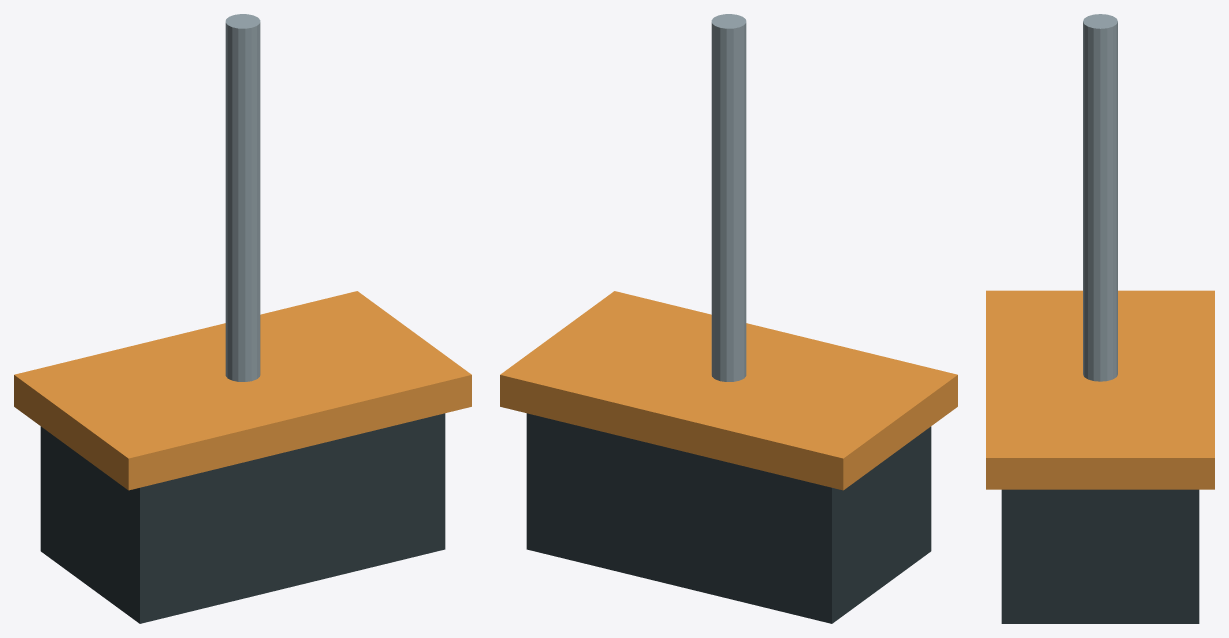
The model's file is material_hoist.glb.
3 renders of one model, left to right at view 1: azimuth 30°, elevation 25°; view 2: azimuth 150°, elevation 25°; view 3: azimuth 270°, elevation 25°, orthographic.
Visible parts, largest first — view 1: material_hoist, material_hoist top, Cylinder; view 2: material_hoist, material_hoist top, Cylinder; view 3: material_hoist top, material_hoist, Cylinder.
Boxes of the visible parts, <box> form: material_hoist: <box>40,413,445,623</box>; material_hoist top: <box>14,291,471,490</box>; Cylinder: <box>225,14,260,381</box>; material_hoist: <box>526,413,931,623</box>; material_hoist top: <box>500,291,957,490</box>; Cylinder: <box>711,14,746,381</box>; material_hoist top: <box>986,290,1214,489</box>; material_hoist: <box>1001,489,1199,623</box>; Cylinder: <box>1083,14,1117,381</box>.
Bounding box in the file's own units: 1.8 × 2.65 × 1.04.
